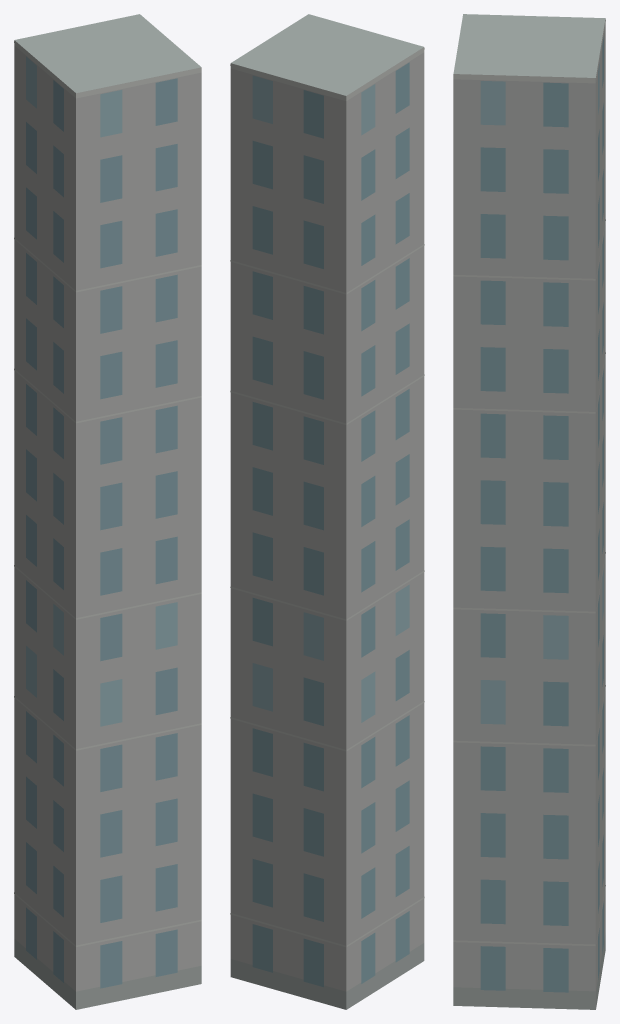
File: survey-upis-32747814.glb
The picture shows the model from 3 angles, left to right: view 1: azimuth 30°, elevation 25°; view 2: azimuth 150°, elevation 25°; view 3: azimuth 270°, elevation 25°; orthographic projection.
Visible parts, largest first — view 1: survey-upis-32747814.tmp; view 2: survey-upis-32747814.tmp; view 3: survey-upis-32747814.tmp.
Part boxes in pixels (x1,y1,x2,y2): survey-upis-32747814.tmp: [14, 14, 201, 1009]; survey-upis-32747814.tmp: [230, 14, 424, 1009]; survey-upis-32747814.tmp: [453, 14, 605, 1009].
Size of the model in its own units: 6.32 by 42.7 by 6.35.
